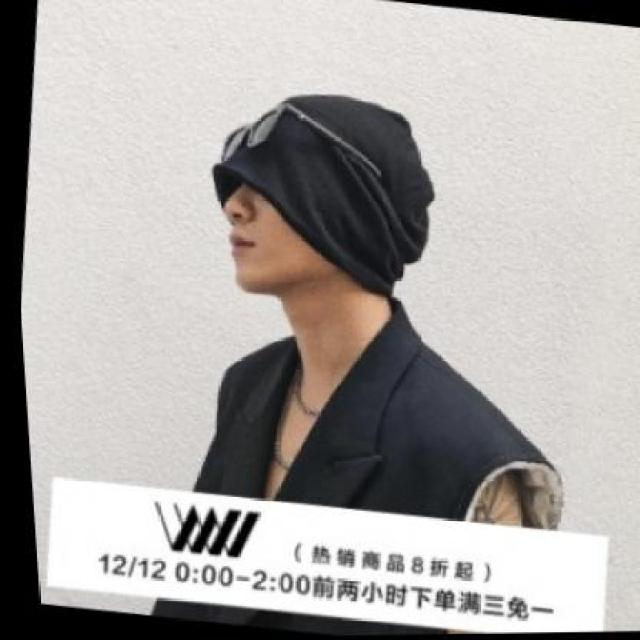hat: (184, 71, 453, 311)
